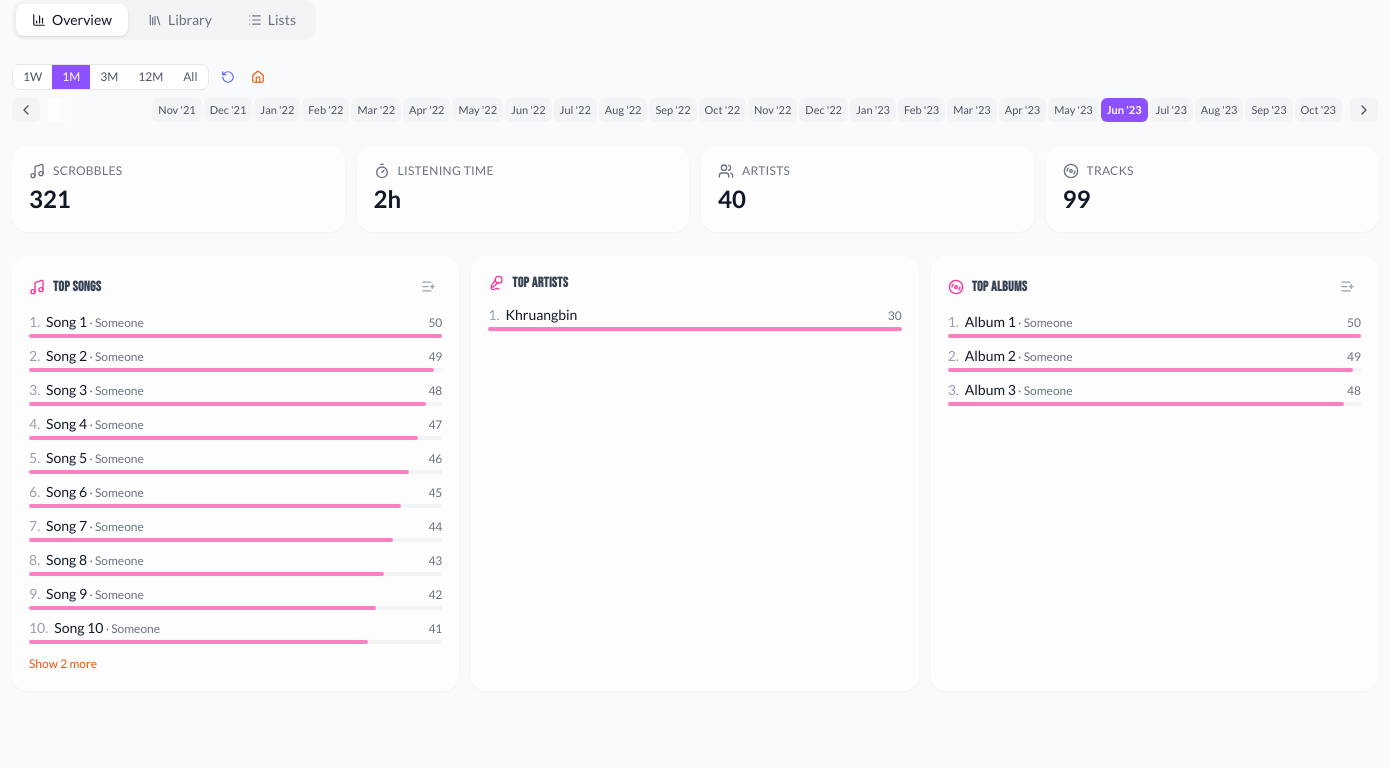
Test: MusicTab › making a list from the top songs and albums › makes a list of the songs shown, named for the month, then opens it
Expected: the link "Song 1" is shown, [46,313,87,330]
Click the button named "Make a list from these 10 songs". click: (429, 286)
box: [415,273,442,300]
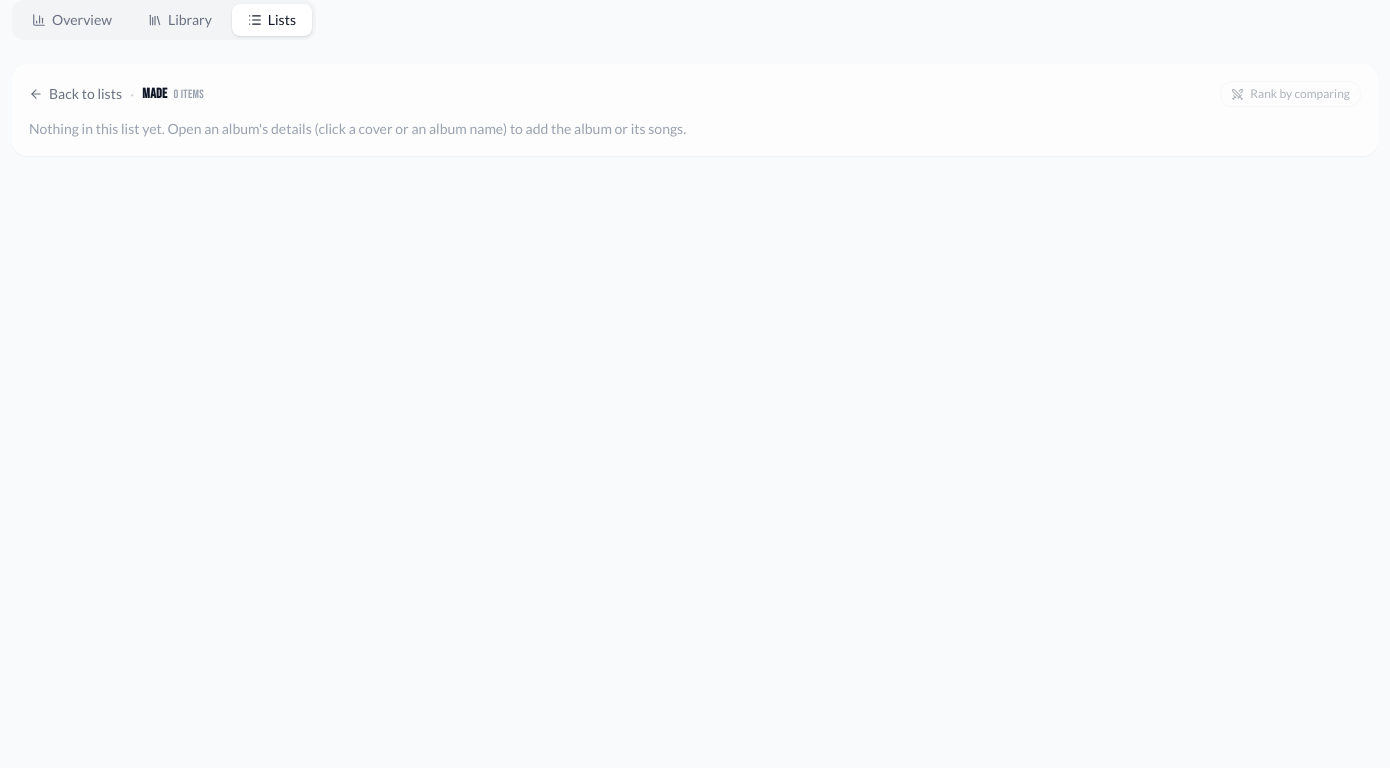
Result: the element named "Music lists" is shown at [12,64,1378,156]
